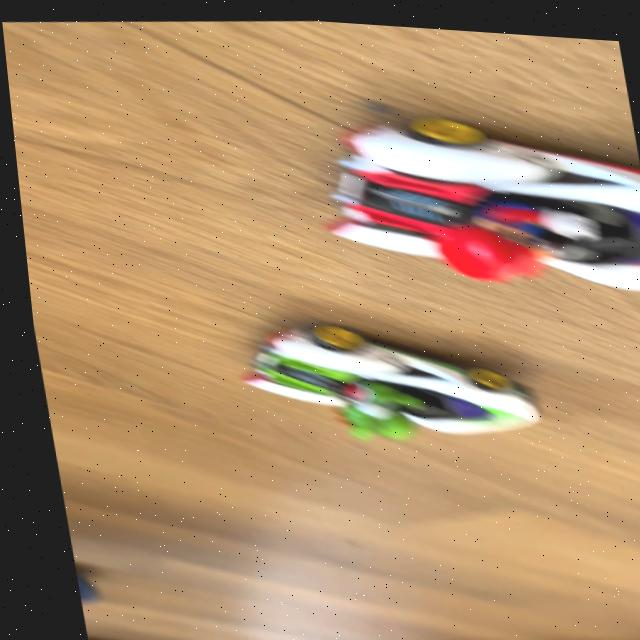mario: (287, 89, 640, 322)
yoshi: (211, 287, 561, 472)
